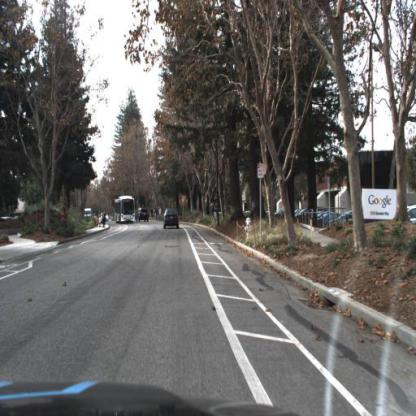car: (164, 210, 181, 229), (138, 208, 150, 223), (102, 213, 109, 221)
pedestrian: (61, 205, 67, 228), (62, 207, 68, 230), (102, 212, 107, 226)
truck: (115, 197, 137, 224)
